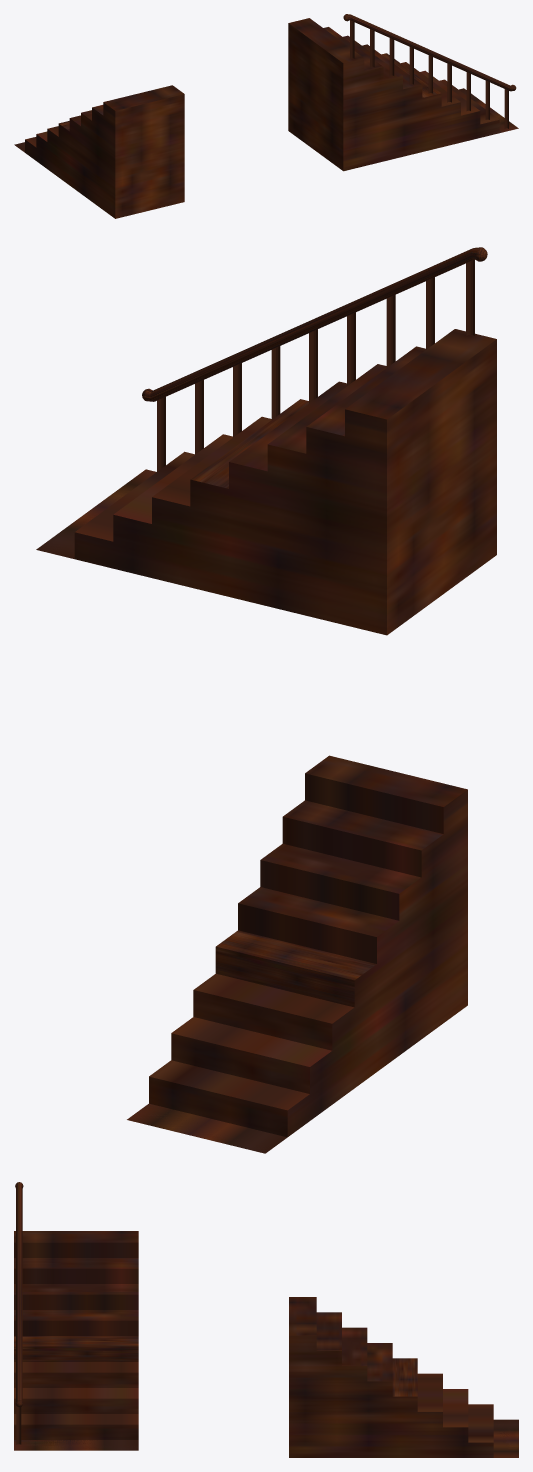
Rendered from Escalerafbx.fbx.
3 views of the same model, one above another, from view 1: azimuth 30°, elevation 25°; view 2: azimuth 150°, elevation 25°; view 3: azimuth 270°, elevation 25° (orthographic). The views are drawn at different scales.
Parts seen in each view (by area): view 1: Escalera; view 2: Escalera; view 3: Escalera.
Boxes of the visible parts, bbox=[...] form: Escalera: bbox=[14, 14, 518, 218]; Escalera: bbox=[36, 247, 496, 1153]; Escalera: bbox=[14, 1182, 518, 1457].
Size of the model in its own units: 4476 by 4002 by 6113.
